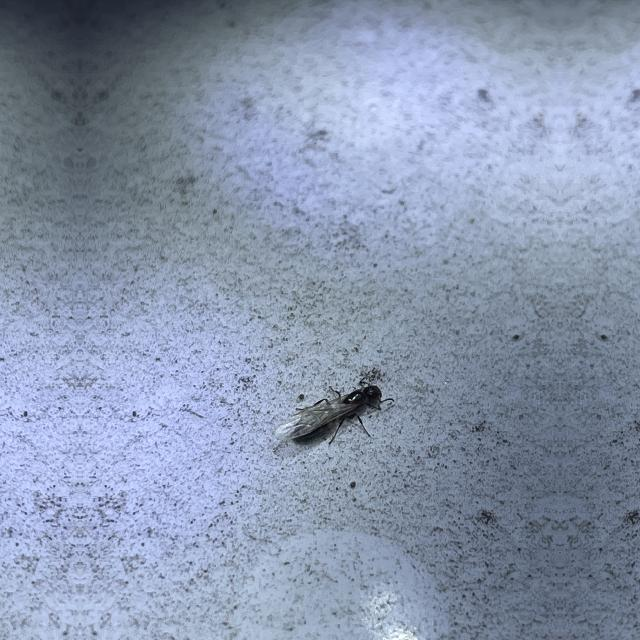Colobopsis: (272, 360, 394, 456)
